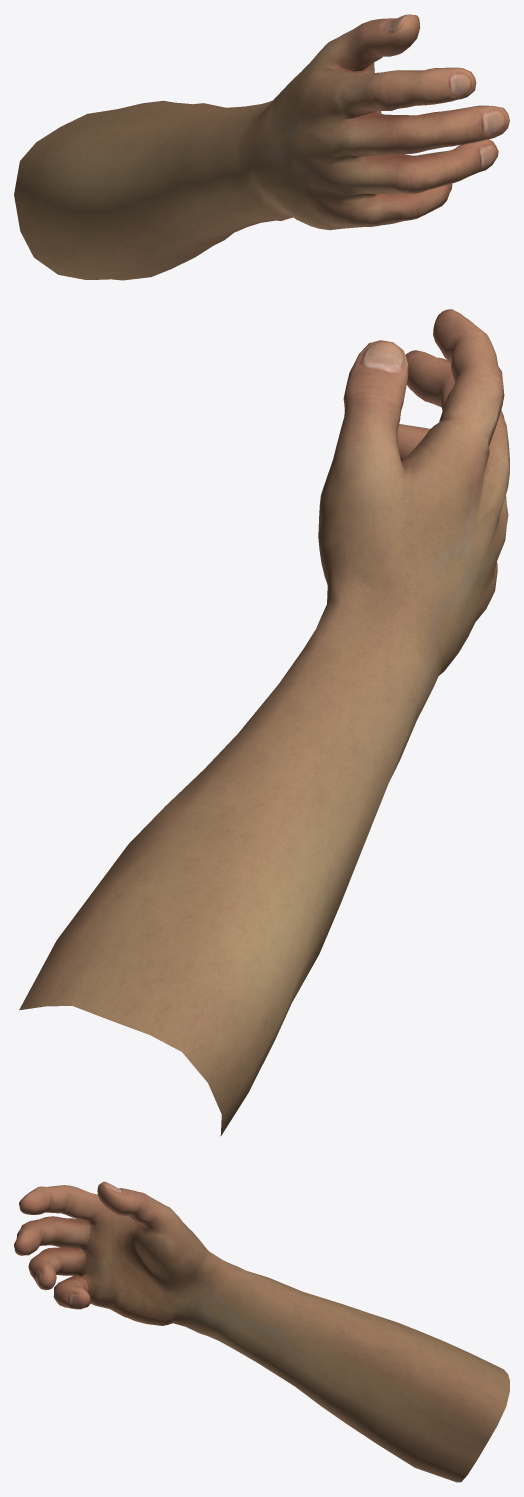
File: rightHand.glb
3 renders of one model, top to bottom at view 1: azimuth 30°, elevation 25°; view 2: azimuth 150°, elevation 25°; view 3: azimuth 270°, elevation 25°, orthographic. The views are drawn at different scales.
Visible parts, largest first — view 1: arms; view 2: arms; view 3: arms.
Part boxes in pixels (left/top/right/bottom): arms: left=14, top=14, right=509, bottom=280; arms: left=19, top=309, right=509, bottom=1136; arms: left=14, top=1181, right=509, bottom=1482.
Size of the model in its own units: 40.14 by 89.51 by 129.
1 material, 1 textured.
